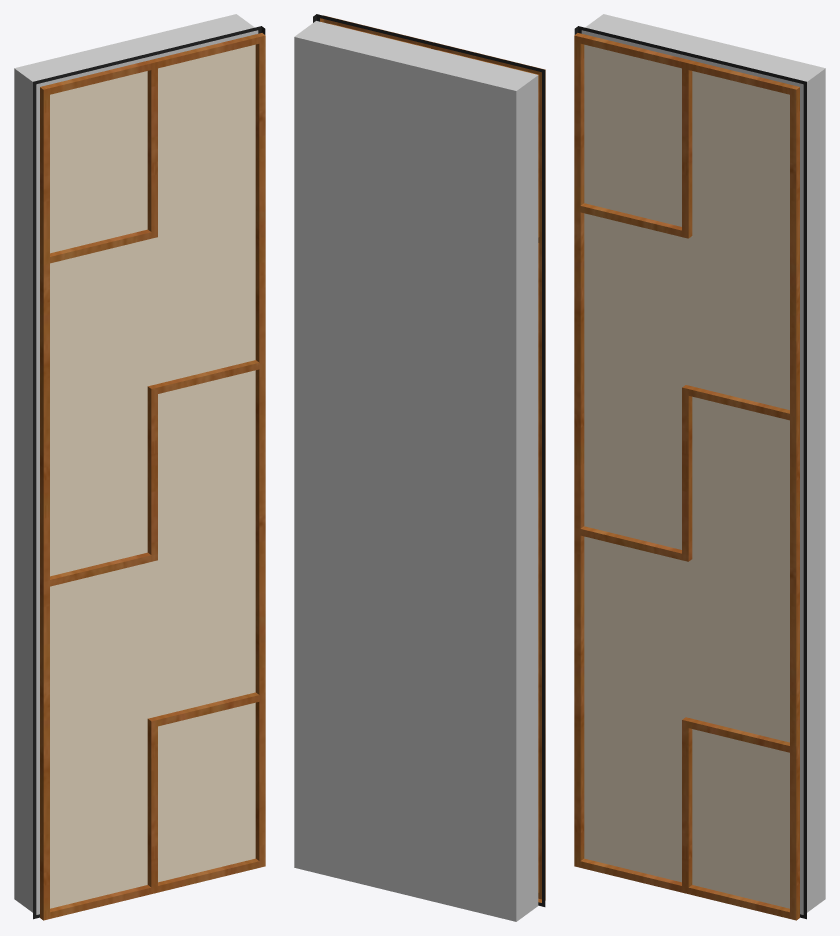
Rendered from WallLight.fbx.
3 renders of one model, left to right at view 1: azimuth 30°, elevation 25°; view 2: azimuth 150°, elevation 25°; view 3: azimuth 330°, elevation 25°, orthographic.
Visible parts, largest first — view 1: skpEA48_1; view 2: skpEA48_1; view 3: skpEA48_1.
Boxes of the visible parts, x1=… form: skpEA48_1: x1=14, y1=14, x2=265, y2=920; skpEA48_1: x1=294, y1=14, x2=545, y2=921; skpEA48_1: x1=574, y1=14, x2=825, y2=920.
Bounding box in the file's own units: 14.17 × 49.61 × 3.15.
